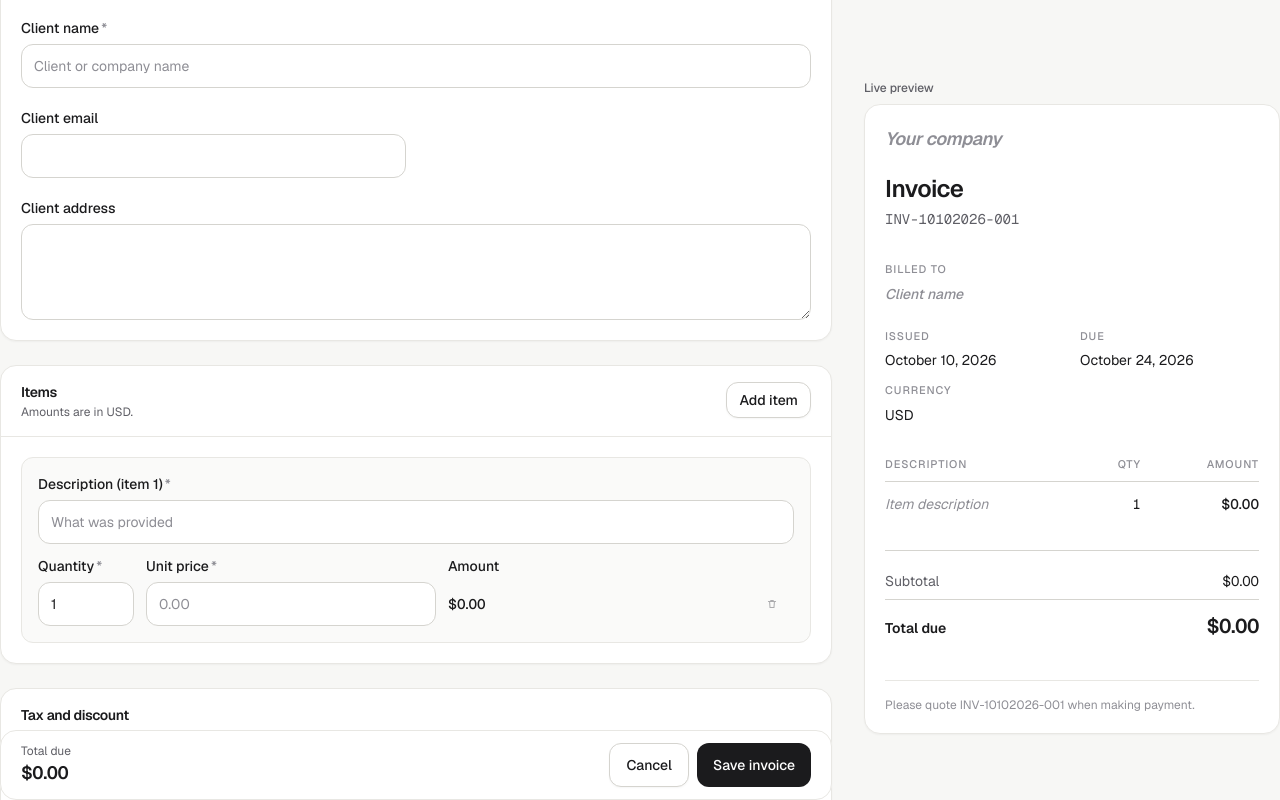
Test: InvoiceForm: line items › removes an item but never the last one
(page scrolled)
Expected: the button named "Remove item 1" is disabled, [750,582,794,626]
Click the button "Add item" at (769, 400), box [726,382,811,418]
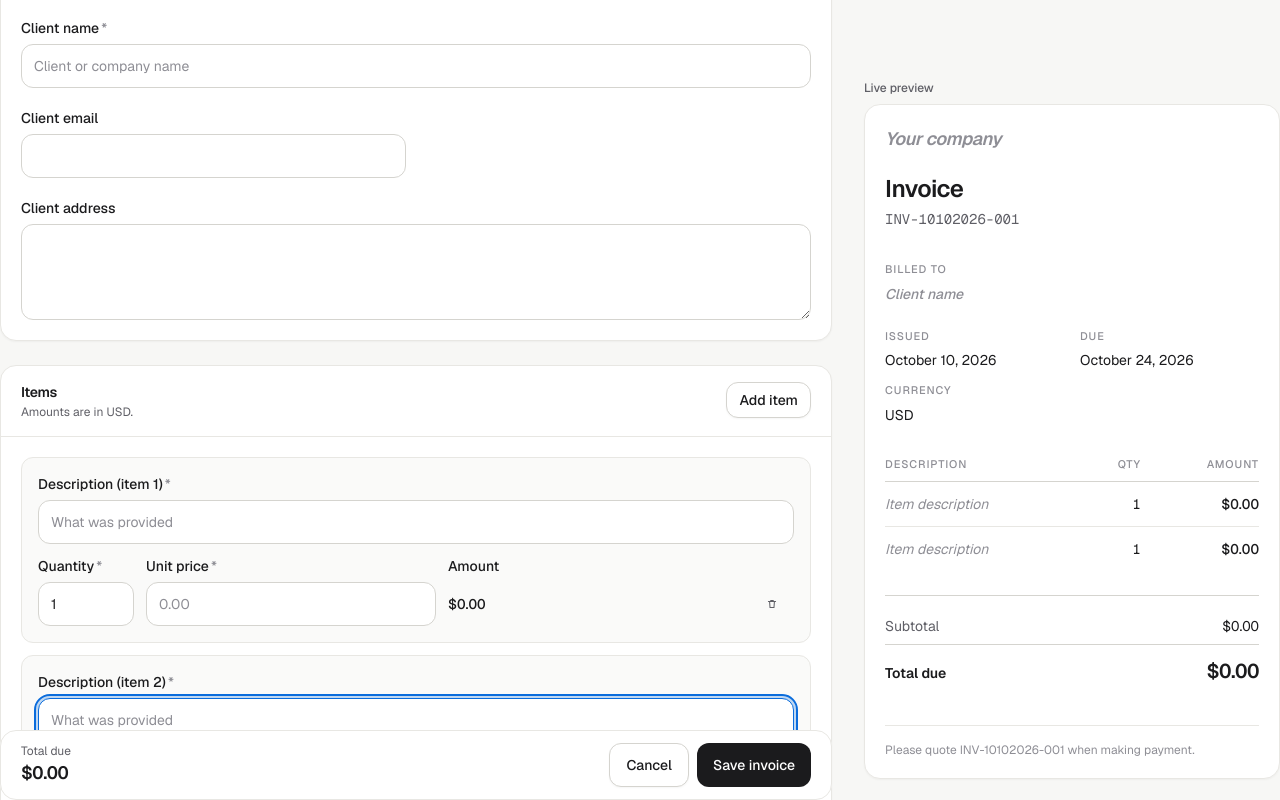
Click the button named "Remove item 1" at (772, 604), box [750,582,794,626]
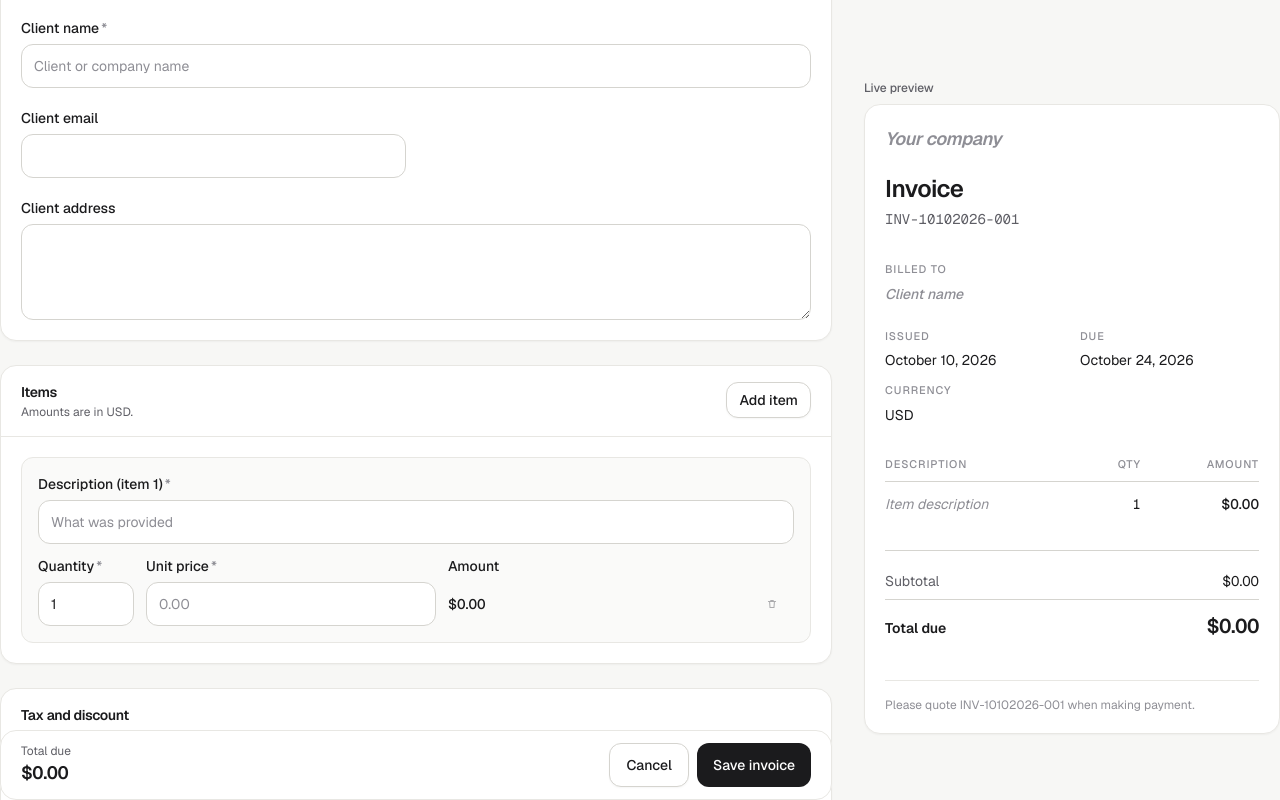
Expected: the number of fields labelled "Description (item 1)" is 1, [38,500,794,544]
Expected: the button named "Remove item 1" is disabled, [750,582,794,626]
